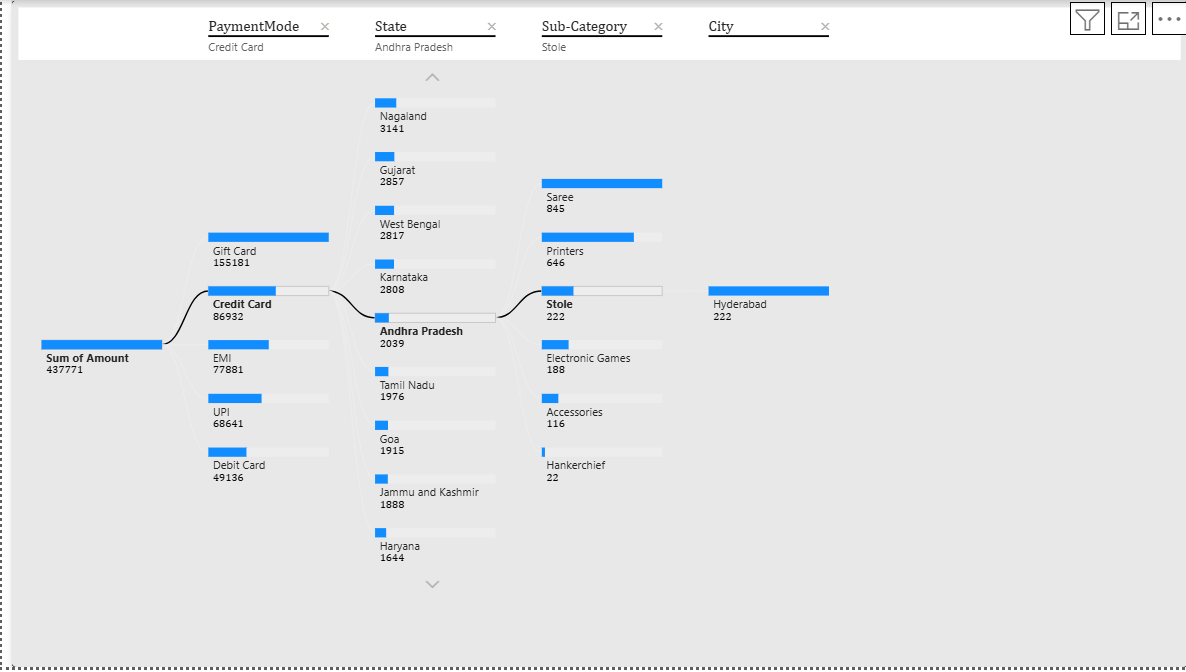

The dashboard page shown, as its layout file describes it:
{"tool":"powerbi","page":{"name":"Analysis using Decomposition Tree","canvas":[1280,720],"ordinal":3},"visuals":[{"type":"decompositionTreeVisual","fields":{"Analyze":["Sum(Details.Amount)"],"ExplainBy":["Details.PaymentMode","orders.State","Details.Sub-Category","orders.City"]},"box":[9.7,0,1271.1,720.6],"z":0}]}

Visuals, with their boxes in screenshot pixels (x1, y1, x2, y2), scaled from the page's 1280x720 canvas onto the 1186x672 screenshot:
decompositionTreeVisual - Sum(Details.Amount) x Details.PaymentMode: bbox(9, 0, 1185, 671)
